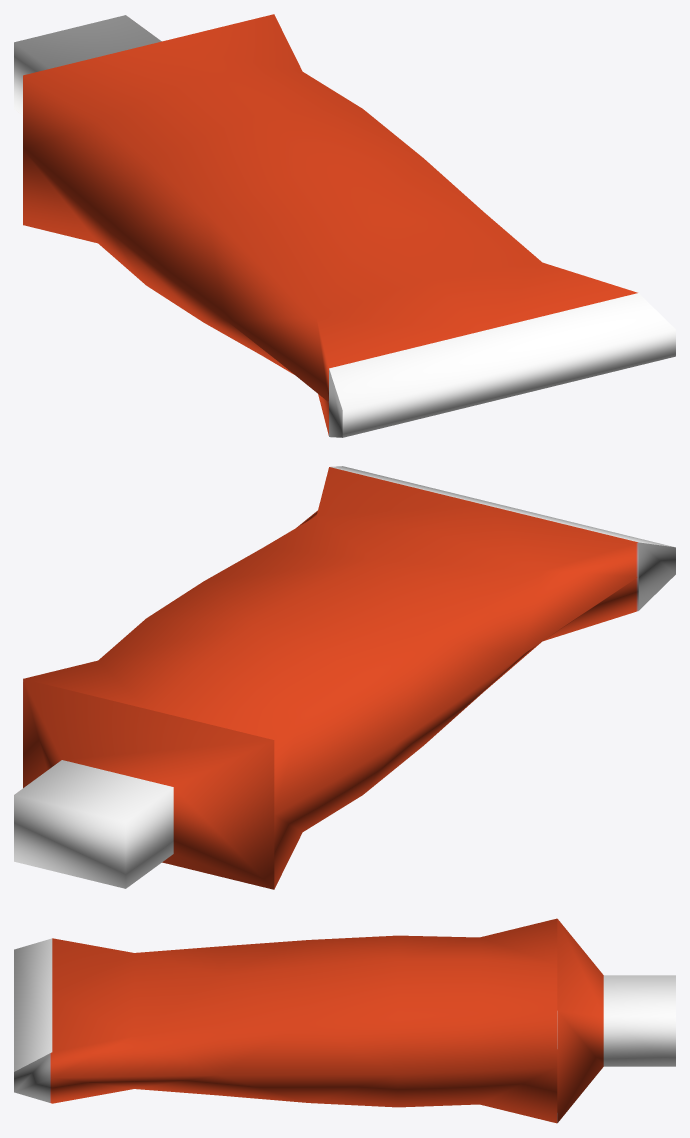
The model's file is M_Ointment.fbx.
3 views of the same model, one above another, from view 1: azimuth 30°, elevation 25°; view 2: azimuth 150°, elevation 25°; view 3: azimuth 270°, elevation 25° (orthographic). The views are drawn at different scales.
Parts seen in each view (by area): view 1: pCube1; view 2: pCube1; view 3: pCube1.
Boxes of the visible parts, bbox=[...] form: pCube1: bbox=[14, 14, 675, 437]; pCube1: bbox=[14, 466, 675, 889]; pCube1: bbox=[14, 918, 675, 1123].
Size of the model in its own units: 1.27 by 0.6025 by 2.91.
Materials: 1 (1 with a texture image).
